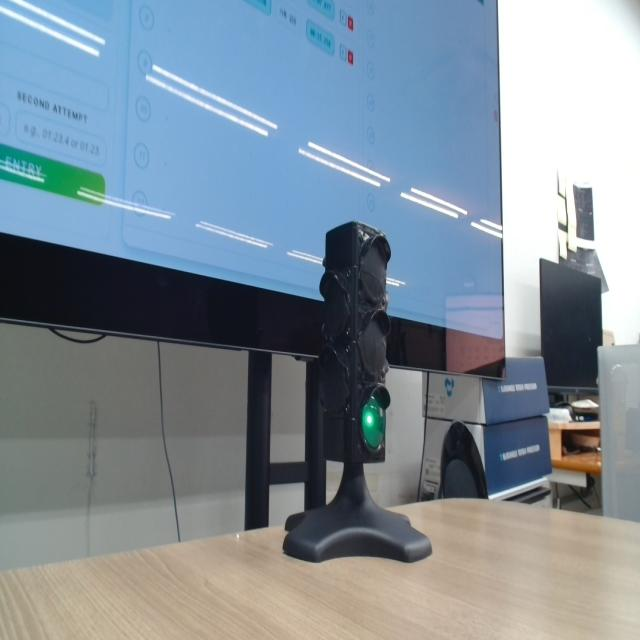green_light: (361, 396, 385, 450)
